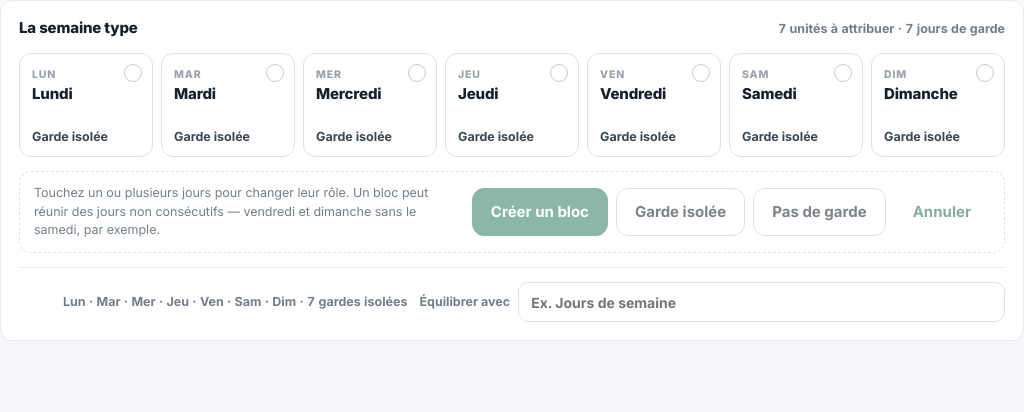
WeekStructureEditor › exclut un jour et affiche le rappel
The image size is (1024, 412).
Click the button "Dim Dimanche Garde isolée" at (938, 105), box [871,53,1005,157]
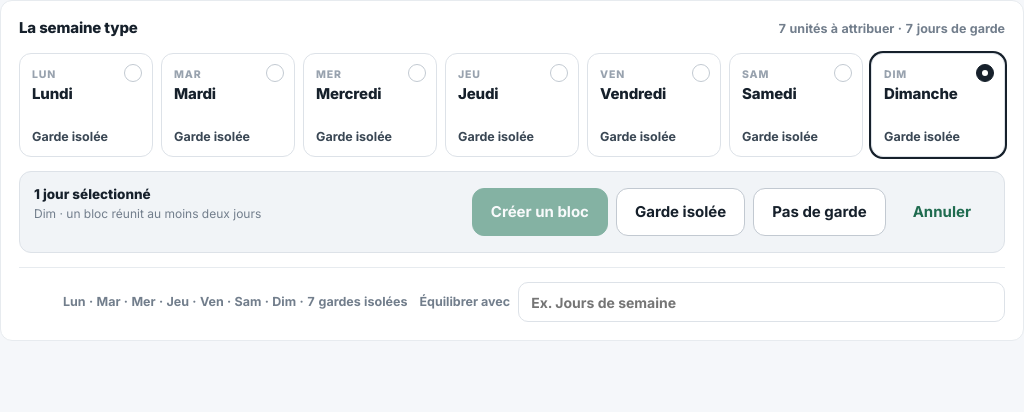
Click the button "Pas de garde" at (819, 212), box [753,188,886,236]
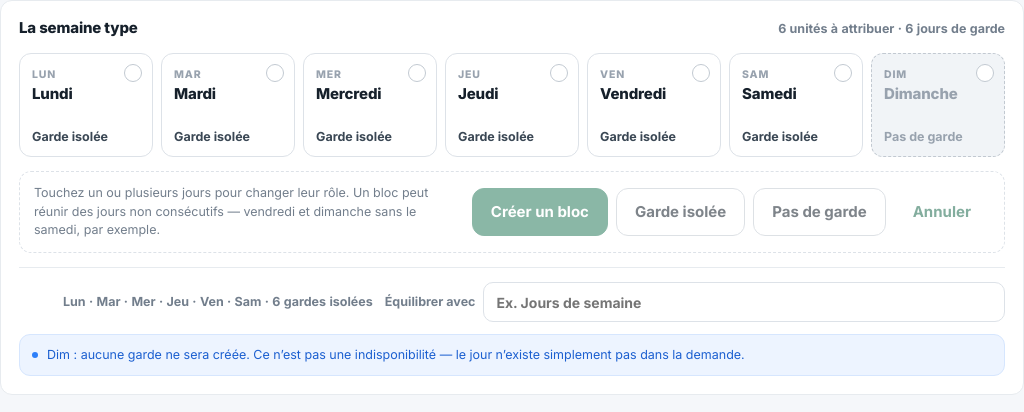
Now the text "aucune garde ne sera créée" is shown, box [47,347,745,362]
